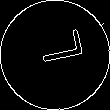L_W: (27, 35, 83, 75)
